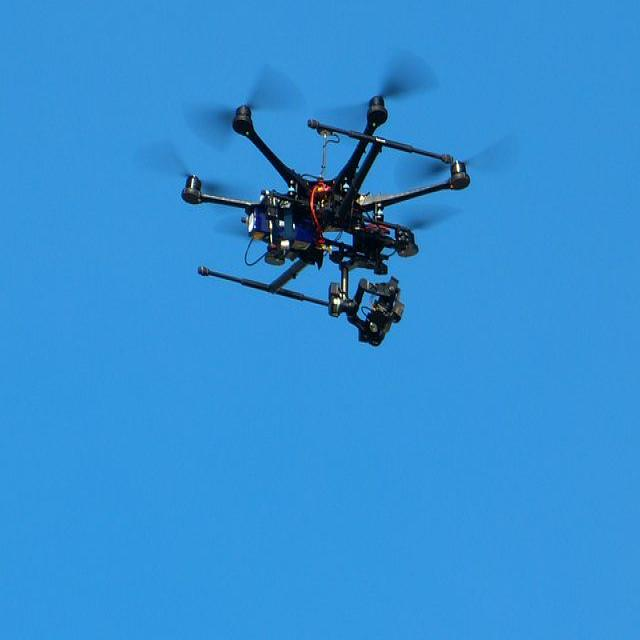drone: (165, 37, 486, 370)
